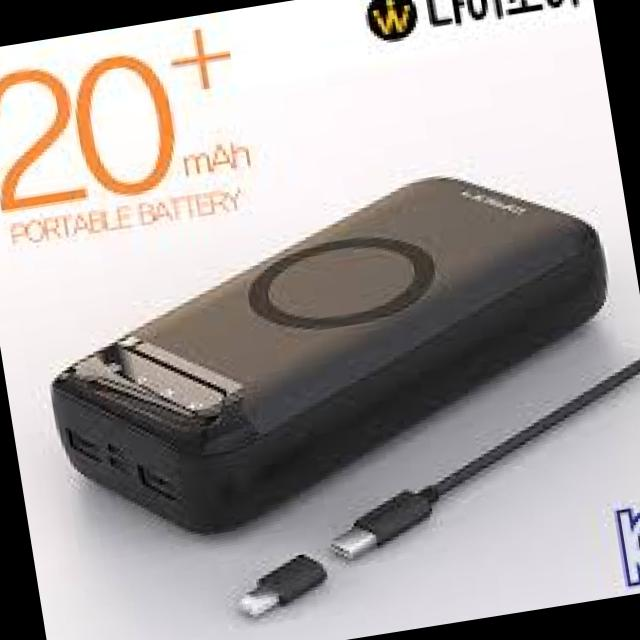portable-charger: (27, 150, 640, 563)
